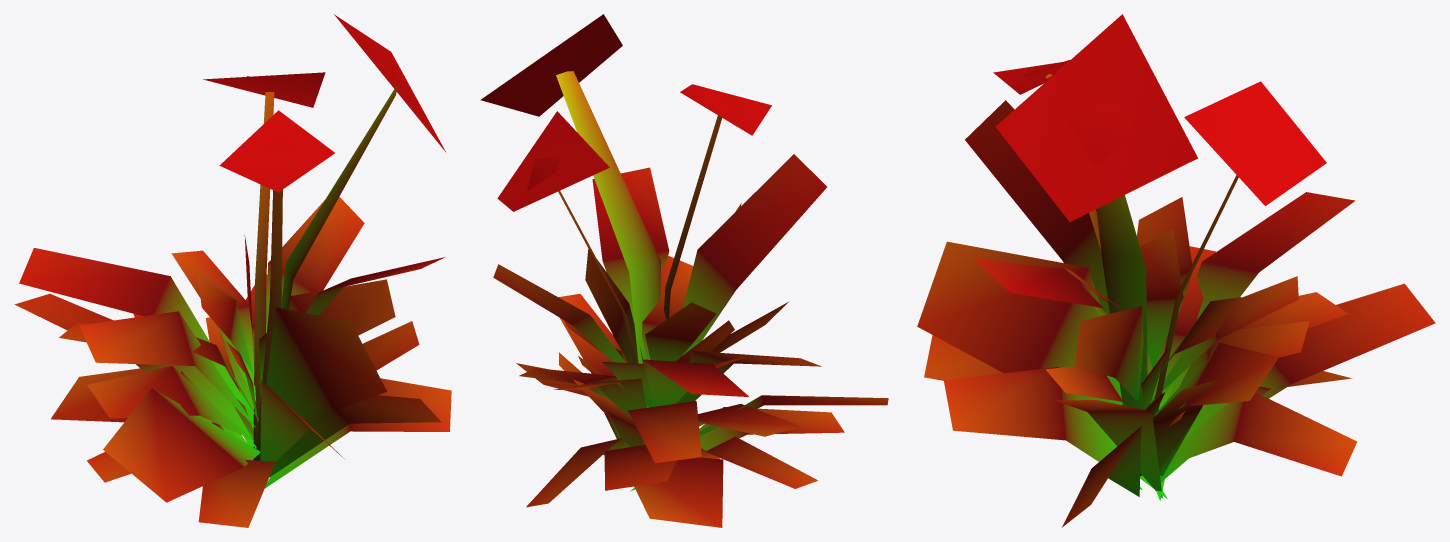
The model's file is Cape Weed_LOD3_Var4_tjmhfcyia.fbx.
The picture shows the model from 3 angles, left to right: view 1: azimuth 30°, elevation 25°; view 2: azimuth 150°, elevation 25°; view 3: azimuth 270°, elevation 25°; orthographic projection. The views are drawn at different scales.
Visible parts, largest first — view 1: _f43f_Var4_LOD3; view 2: _f43f_Var4_LOD3; view 3: _f43f_Var4_LOD3.
Part boxes in pixels (x1,y1,x2,y2): _f43f_Var4_LOD3: (14, 14, 451, 527); _f43f_Var4_LOD3: (480, 14, 888, 527); _f43f_Var4_LOD3: (917, 14, 1435, 527).
Bounding box in the file's own units: 18.74 × 22.91 × 20.8.
